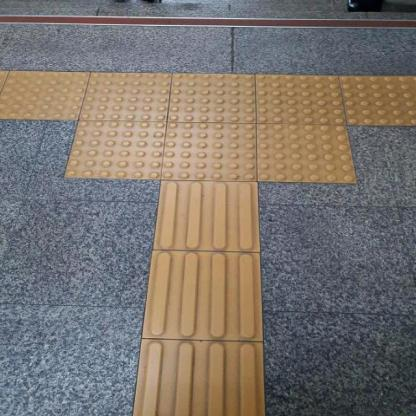podotacti: (132, 182, 264, 415), (66, 119, 358, 184), (0, 75, 415, 118)
